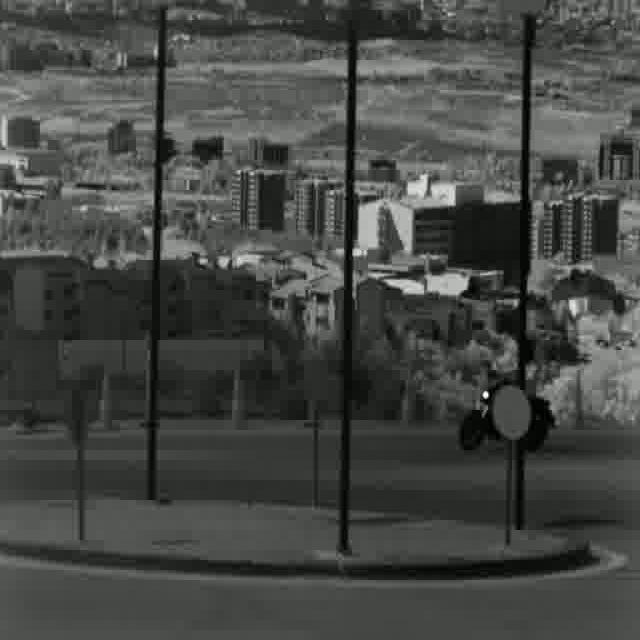Motorcycle: (460, 361, 554, 451)
